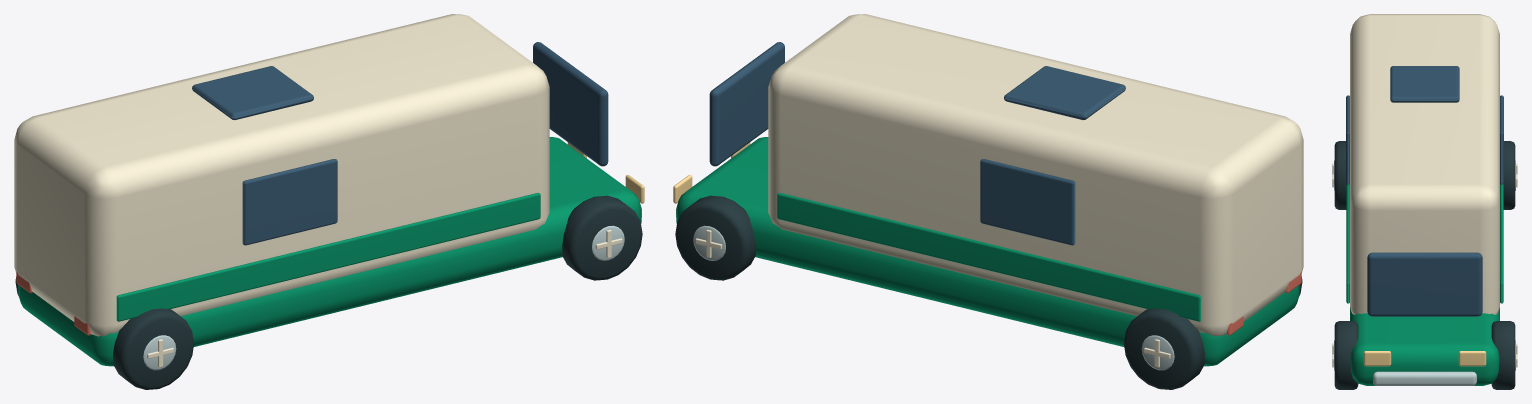
The model's file is camper.glb.
3 views of the same model, side by side, from view 1: azimuth 30°, elevation 25°; view 2: azimuth 150°, elevation 25°; view 3: azimuth 270°, elevation 25° (orthographic). The views are drawn at different scales.
Visible parts, largest first — view 1: Warm white trim.002, Paint camper, Opaque blue glass.007, Rolling wheels.007; view 2: Warm white trim.002, Paint camper, Opaque blue glass.007, Rolling wheels.007; view 3: Warm white trim.002, Opaque blue glass.007, Paint camper, Rolling wheels.007, Wheel hubs.007, Headlamp.007.
Boxes of the visible parts, x1,y1,x2,y2 form: Warm white trim.002: (14, 14, 549, 336); Paint camper: (18, 137, 641, 366); Opaque blue glass.007: (192, 42, 608, 245); Rolling wheels.007: (15, 195, 642, 389); Warm white trim.002: (768, 14, 1303, 336); Paint camper: (676, 137, 1299, 366); Opaque blue glass.007: (709, 42, 1125, 245); Rolling wheels.007: (675, 195, 1302, 389); Warm white trim.002: (1350, 14, 1499, 314); Opaque blue glass.007: (1346, 66, 1503, 316); Paint camper: (1346, 184, 1503, 385); Rolling wheels.007: (1332, 141, 1517, 389); Wheel hubs.007: (1373, 371, 1476, 385); Headlamp.007: (1363, 351, 1486, 366).
Size of the model in its own units: 2.92 by 1.12 by 1.02.
